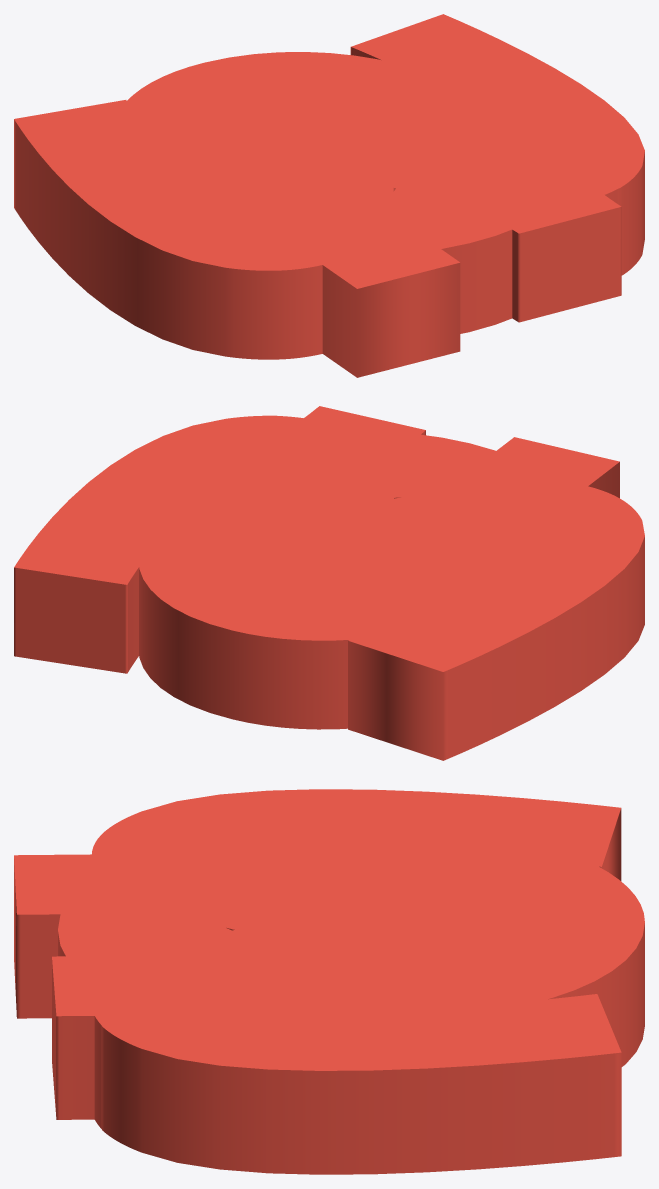
File: owra.glb
3 renders of one model, top to bottom at view 1: azimuth 30°, elevation 25°; view 2: azimuth 150°, elevation 25°; view 3: azimuth 270°, elevation 25°, orthographic. The views are drawn at different scales.
Visible parts, largest first — view 1: w, a, r, o; view 2: w, a, r, o; view 3: w, a, o, r.
Boxes of the visible parts, left/top/right/bottom form: w: left=14, top=14, right=644, bottom=359; a: left=111, top=52, right=621, bottom=322; r: left=138, top=66, right=567, bottom=377; o: left=125, top=61, right=581, bottom=333; w: left=14, top=415, right=644, bottom=760; a: left=139, top=406, right=599, bottom=729; r: left=143, top=437, right=619, bottom=633; o: left=126, top=431, right=581, bottom=625; w: left=92, top=789, right=621, bottom=1174; a: left=52, top=823, right=644, bottom=1119; o: left=58, top=817, right=600, bottom=1041; r: left=14, top=850, right=559, bottom=1030.
Size of the model in its own units: 0.1164 by 0.02 by 0.1102.
